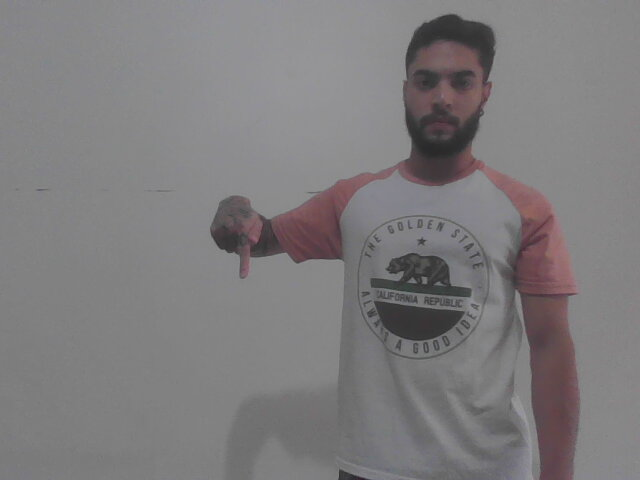q: (204, 191, 270, 282)
